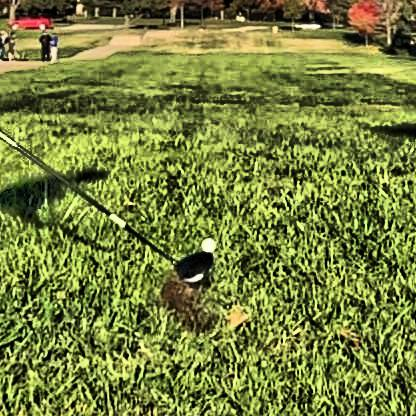golfball: (198, 233, 215, 250)
